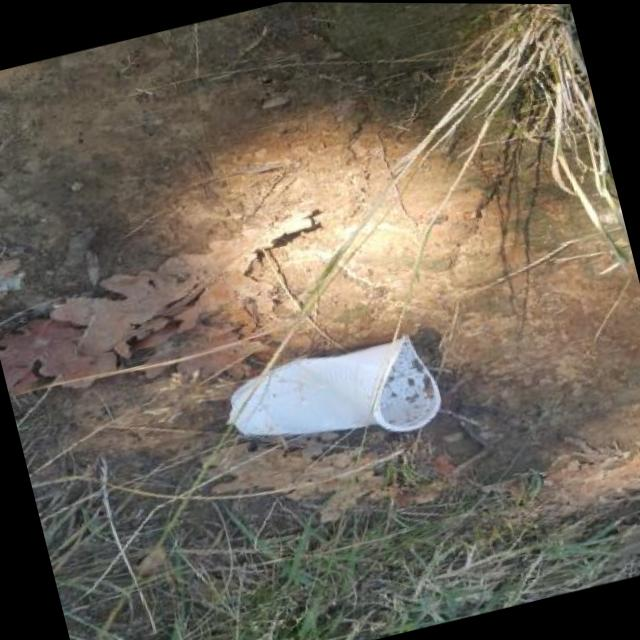plastic: (170, 220, 318, 454)
